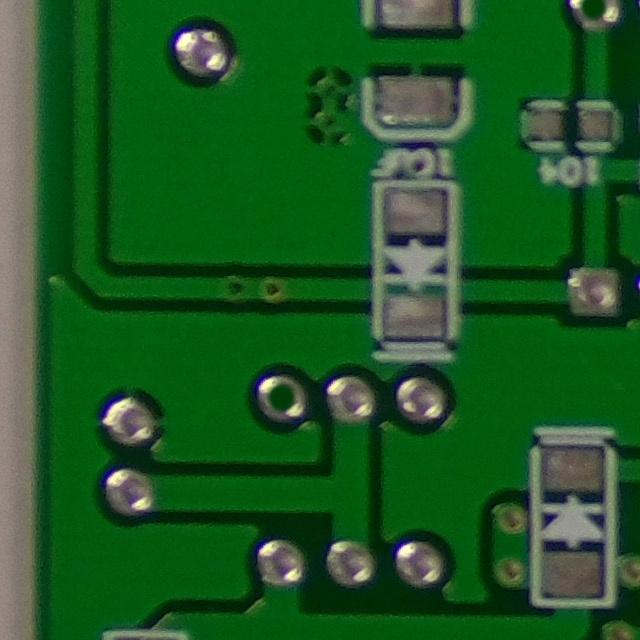missing_hole: (256, 369, 315, 425), (561, 0, 631, 40)
